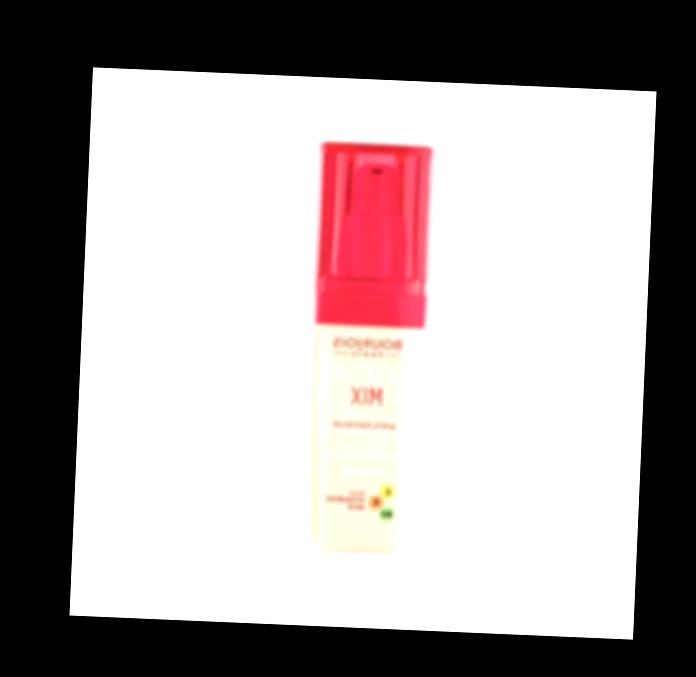cosmetic: (296, 142, 439, 583)
